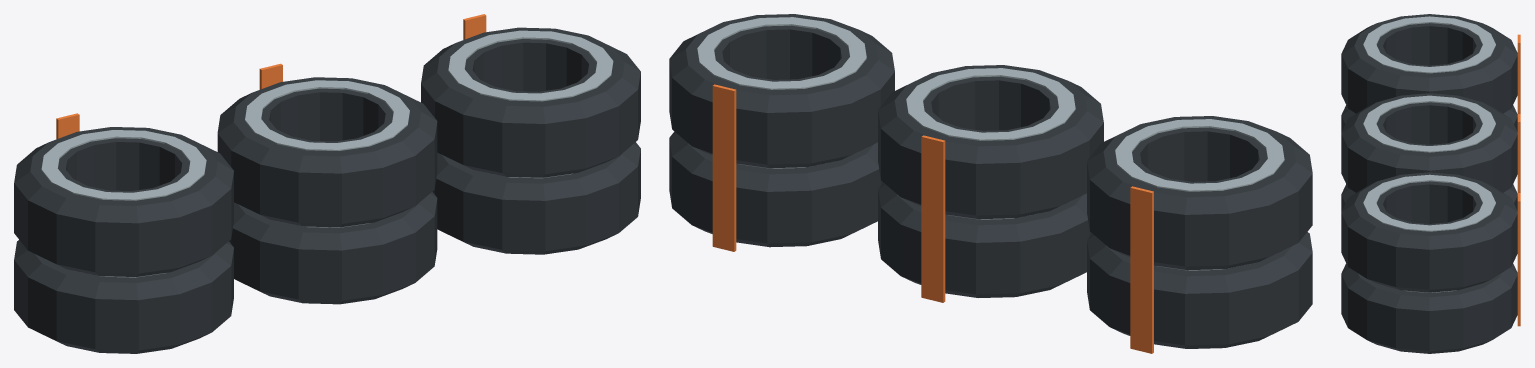
The model's file is tire_barrier_v2.glb.
The picture shows the model from 3 angles, left to right: view 1: azimuth 30°, elevation 25°; view 2: azimuth 150°, elevation 25°; view 3: azimuth 270°, elevation 25°; orthographic projection. The views are drawn at different scales.
Visible parts, largest first — view 1: Tire_Barrier; view 2: Tire_Barrier; view 3: Tire_Barrier.
Part boxes in pixels (box(x1,y1,x2,y2)): Tire_Barrier: box(14, 14, 640, 353); Tire_Barrier: box(669, 14, 1312, 353); Tire_Barrier: box(1341, 14, 1520, 353).
Size of the model in its own units: 2.12 by 0.53 by 0.69.
